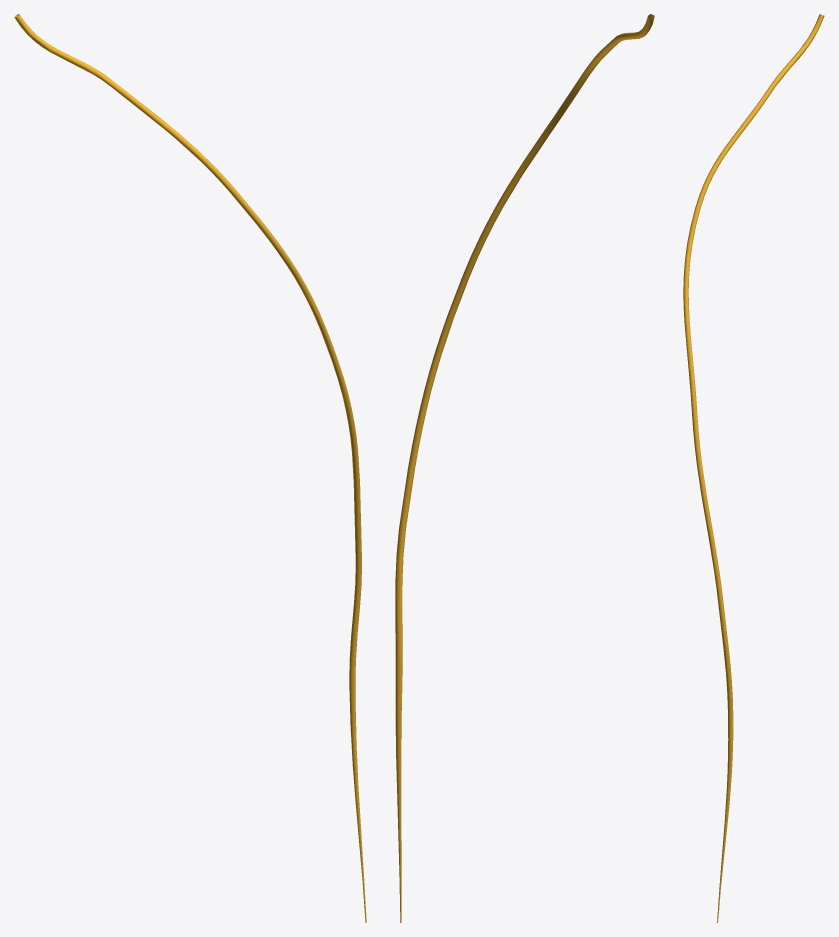
File: nervoso-lateral-antebrachial-cutaneous-nerve-l.glb
3 renders of one model, left to right at view 1: azimuth 30°, elevation 25°; view 2: azimuth 150°, elevation 25°; view 3: azimuth 270°, elevation 25°, orthographic. The views are drawn at different scales.
Visible parts, largest first — view 1: Lateral antebrachial cutaneous nerve.l; view 2: Lateral antebrachial cutaneous nerve.l; view 3: Lateral antebrachial cutaneous nerve.l.
Boxes of the visible parts, <box> form: Lateral antebrachial cutaneous nerve.l: <box>14,14,366,922</box>; Lateral antebrachial cutaneous nerve.l: <box>395,14,654,922</box>; Lateral antebrachial cutaneous nerve.l: <box>683,14,824,922</box>.
Size of the model in its own units: 0.0527 by 0.162 by 0.0262.
